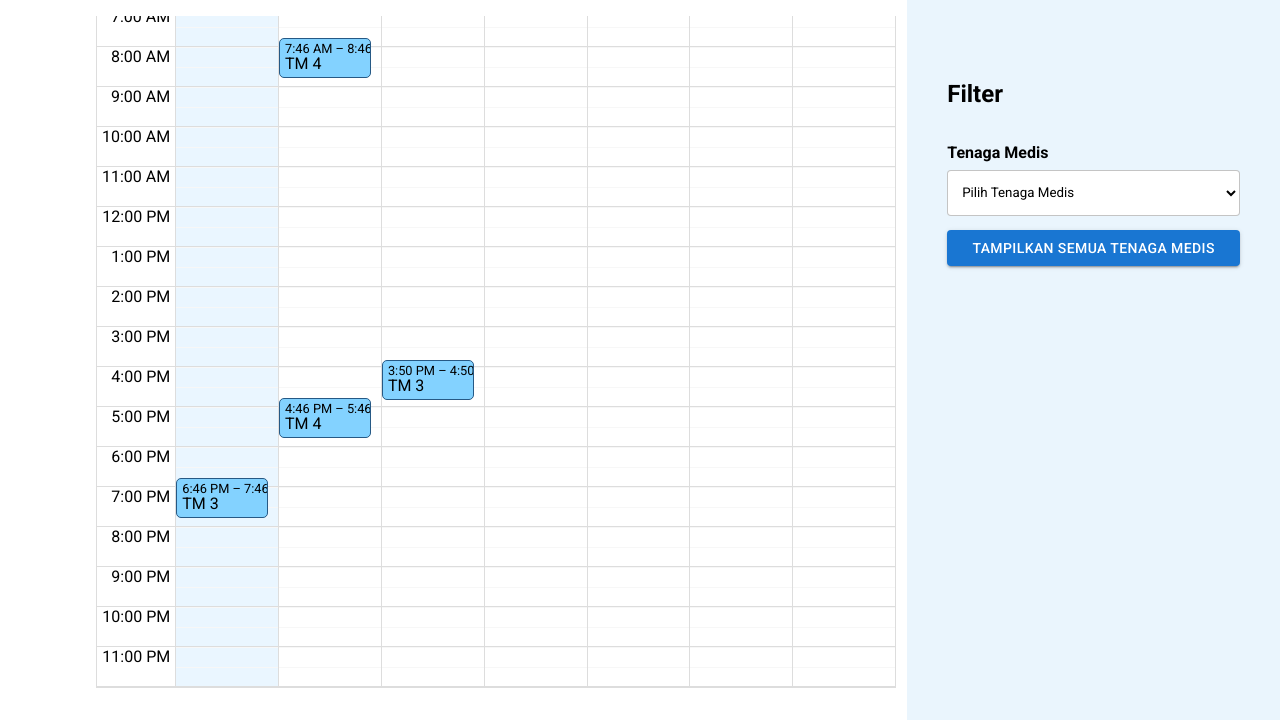
it: JadwalPasien › Specific Functions › should select event
(page scrolled)
Click the text "TM 3" below "6:46 PM – 7:46 PM" at point(200, 503), box [182, 494, 219, 513]
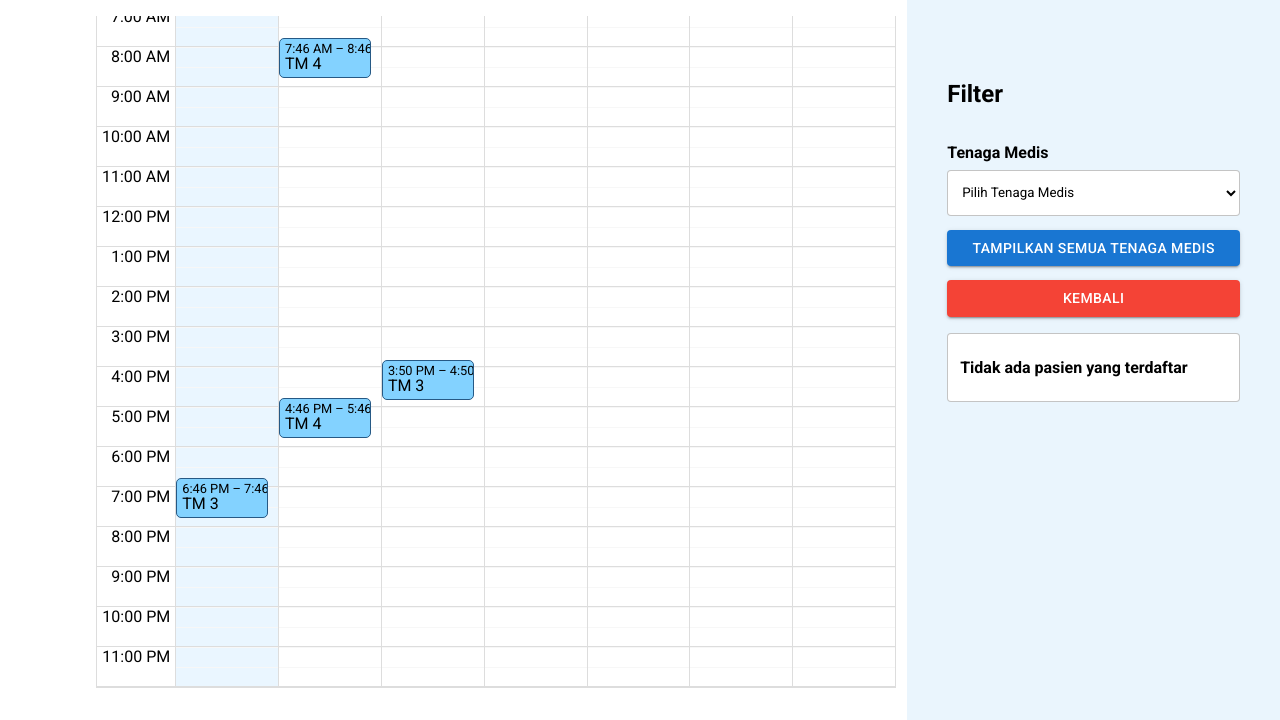
Now the heading "Tidak ada pasien yang terdaftar" is shown, box [960, 358, 1227, 377]
